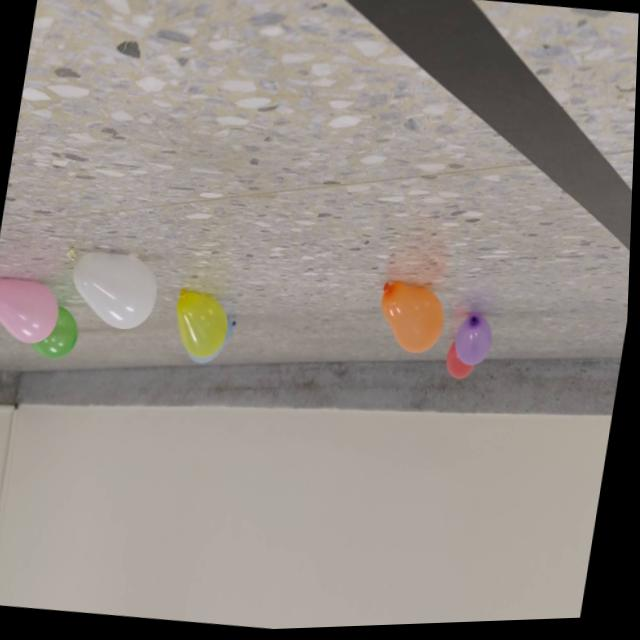other: (57, 246, 164, 338), (374, 281, 451, 362), (0, 274, 64, 349), (171, 291, 232, 363), (30, 303, 85, 362), (453, 317, 498, 371)
red: (445, 347, 480, 384)
